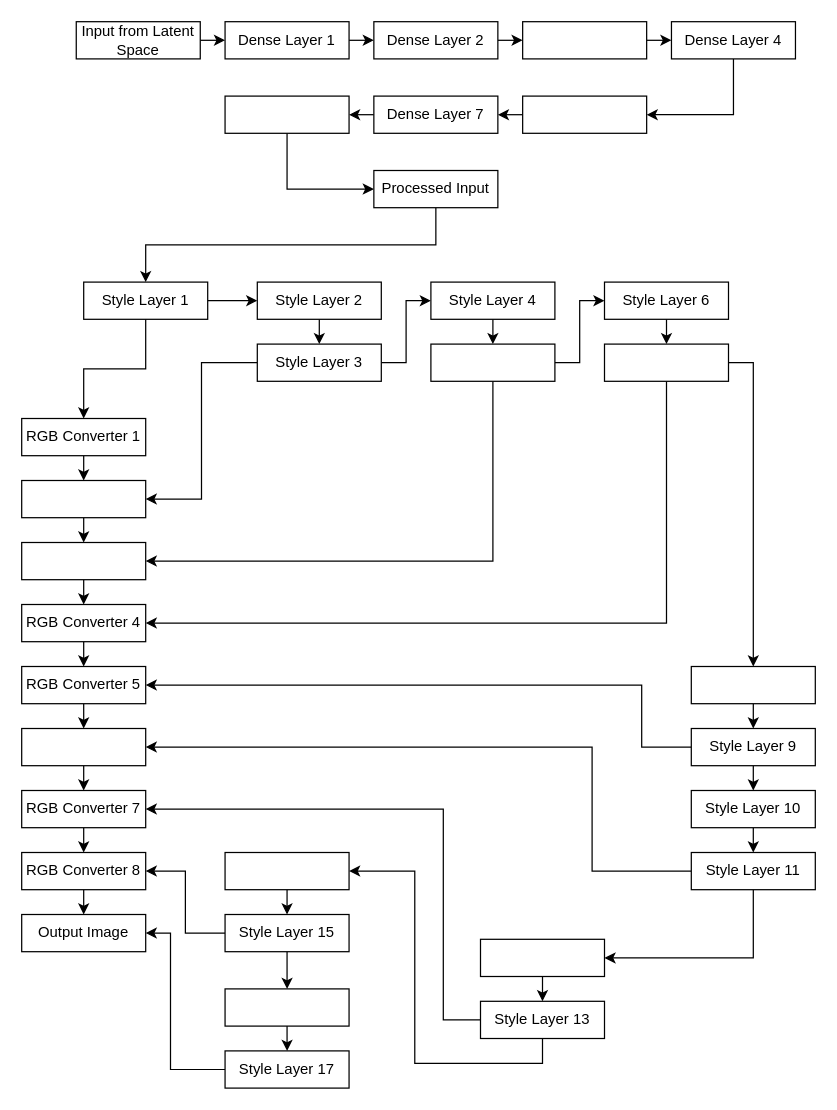
Some shapes in this 837 by 1110 pixel diagram are drawn without their labels. The box of each missing label's shape, as (x1, y1, x2, y2) in pixels:
Dense Layer 3: (521, 20, 647, 59)
Dense Layer 5: (521, 95, 647, 133)
Dense Layer 8: (224, 95, 349, 133)
RGB Converter 2: (20, 479, 146, 518)
RGB Converter 3: (20, 541, 146, 580)
RGB Converter 6: (20, 727, 146, 766)
Style Layer 12: (479, 938, 604, 976)
Style Layer 14: (224, 851, 349, 890)
Style Layer 16: (224, 988, 349, 1026)
Style Layer 5: (430, 343, 555, 381)
Style Layer 7: (603, 343, 728, 381)
Style Layer 8: (690, 665, 815, 704)
